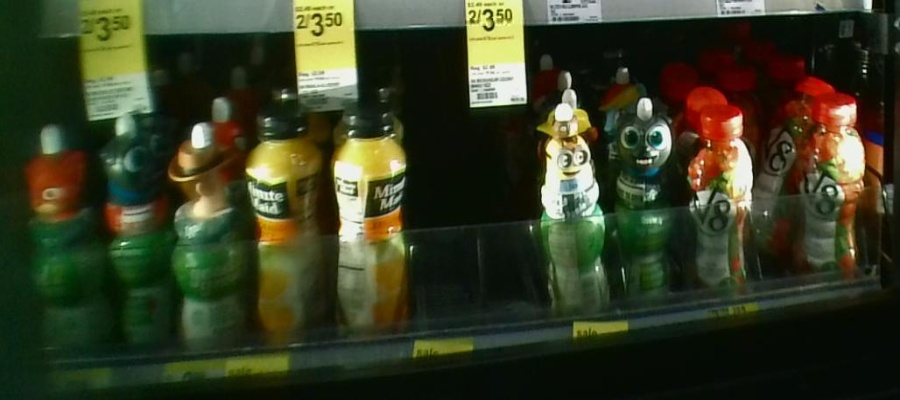bottle: (245, 100, 326, 350), (18, 124, 103, 359), (327, 107, 411, 342), (529, 100, 612, 325), (172, 124, 243, 353), (107, 123, 168, 357), (682, 103, 756, 291), (614, 101, 679, 307), (803, 93, 864, 275), (758, 102, 803, 271)
